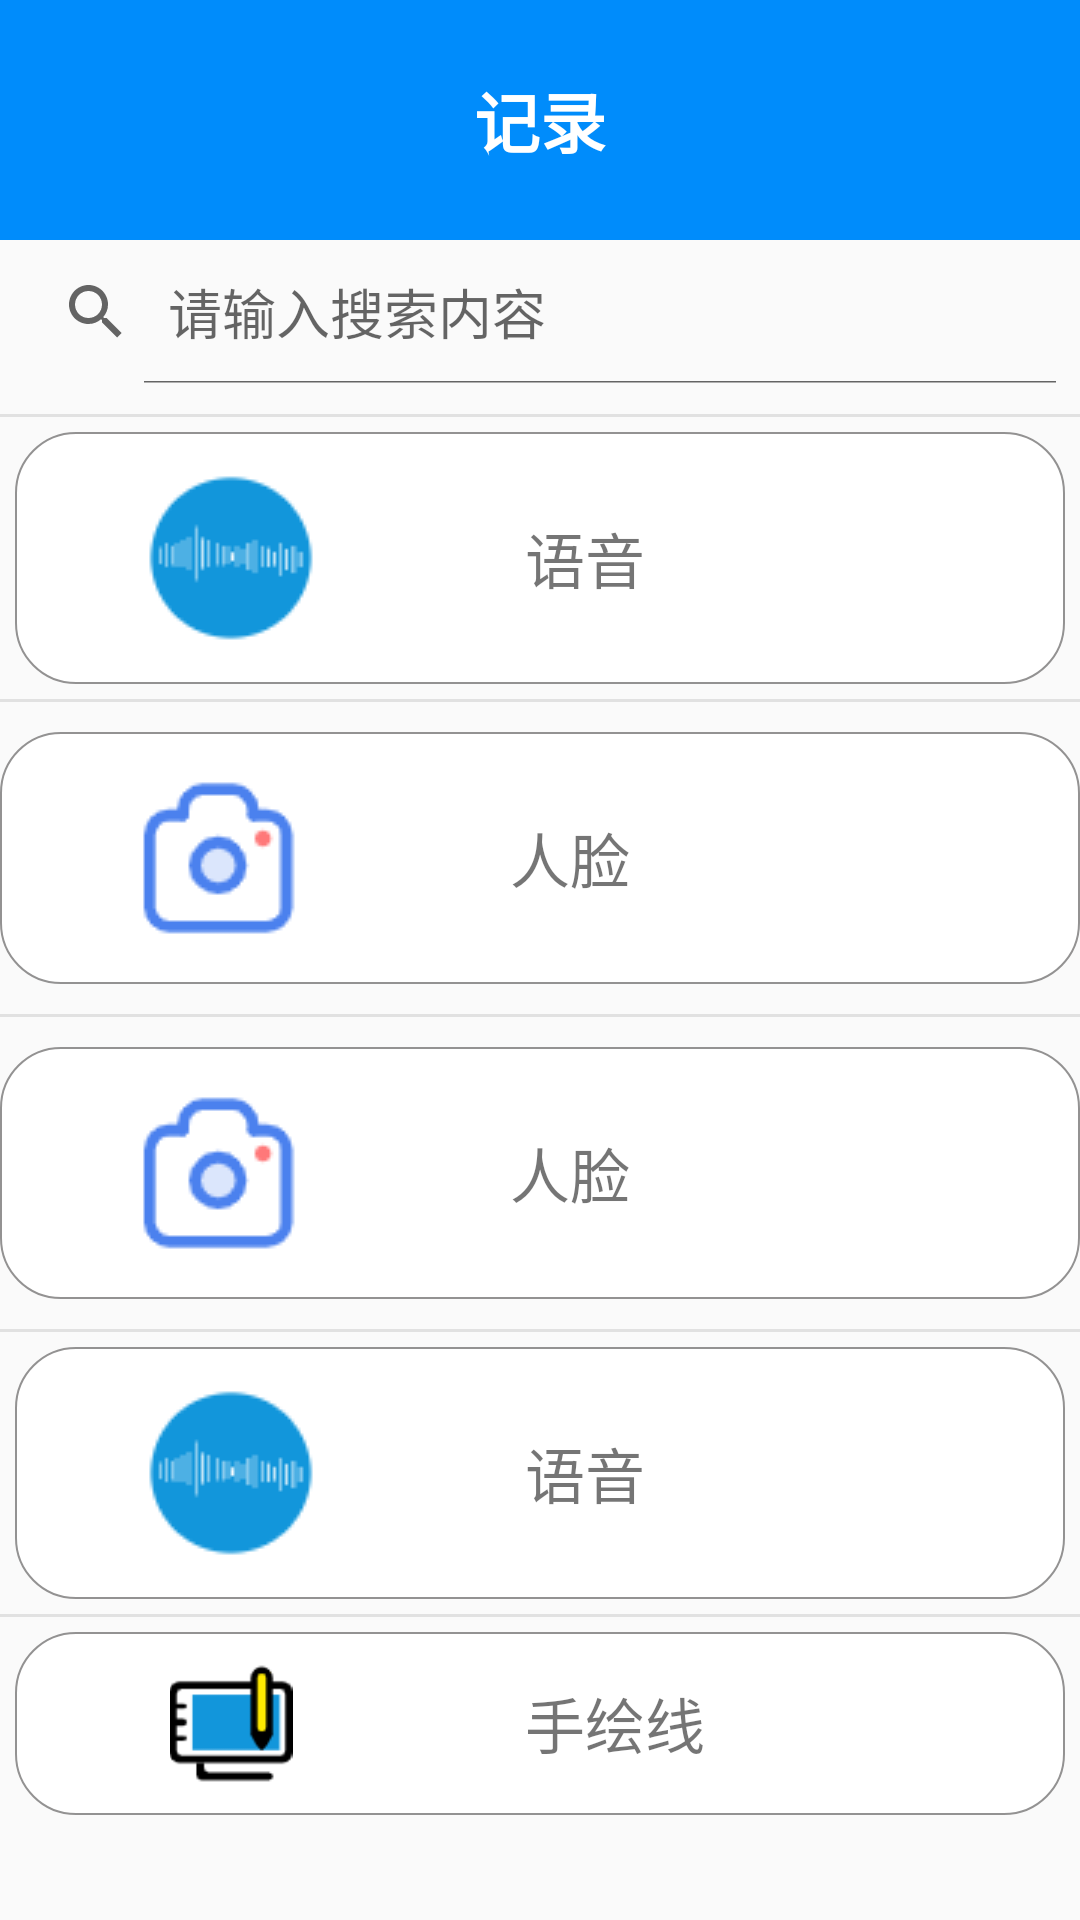

Where to tap for icons on this 1080×1920 app screen, as point (x, y):
audio: point (231, 558), point (231, 1473)
takephoto: point (219, 858), point (219, 1173)
